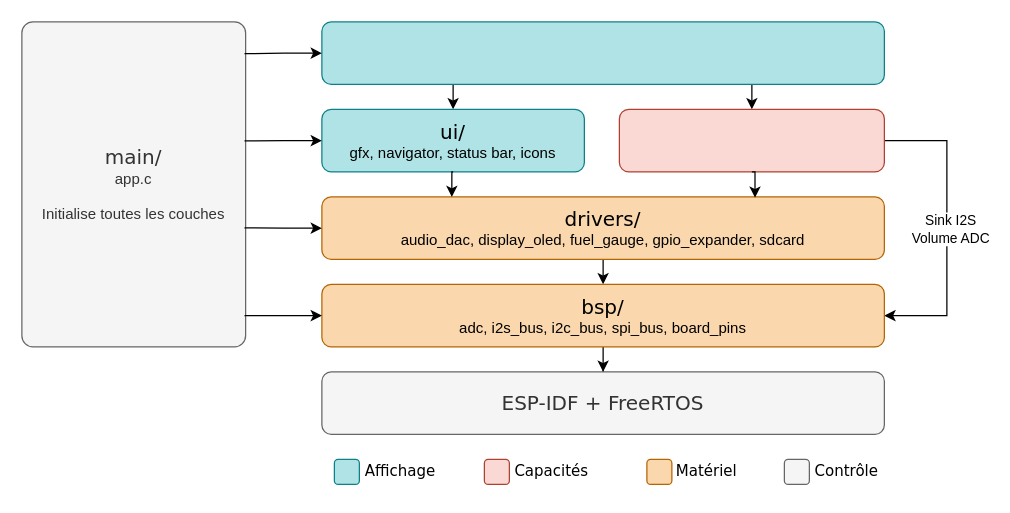
This 1010x513 diagram has some shape labels left out. The box of each missing label's shape, as (x1, y1, x2, y2) in pixels:
screens/ root, audio, storage, statistics, settings: (321, 21, 884, 84)
services/ audio, bluetooth, input, maintenance, power, settings, storage: (618, 108, 884, 172)
